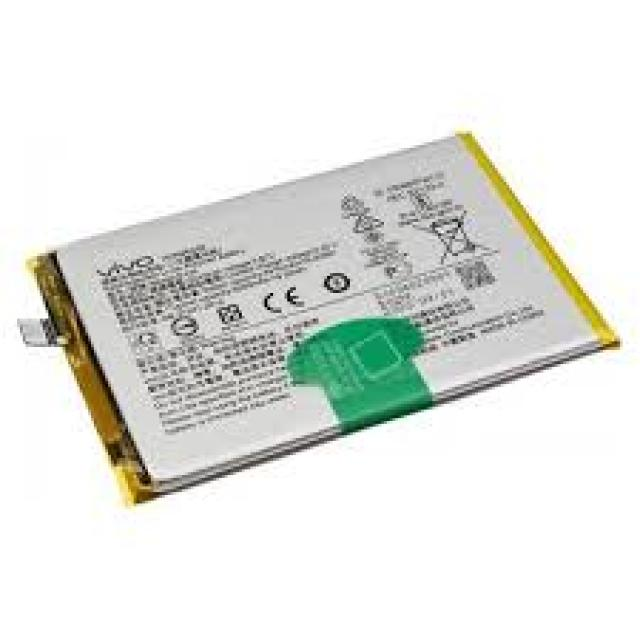Battery: (20, 134, 614, 498)
